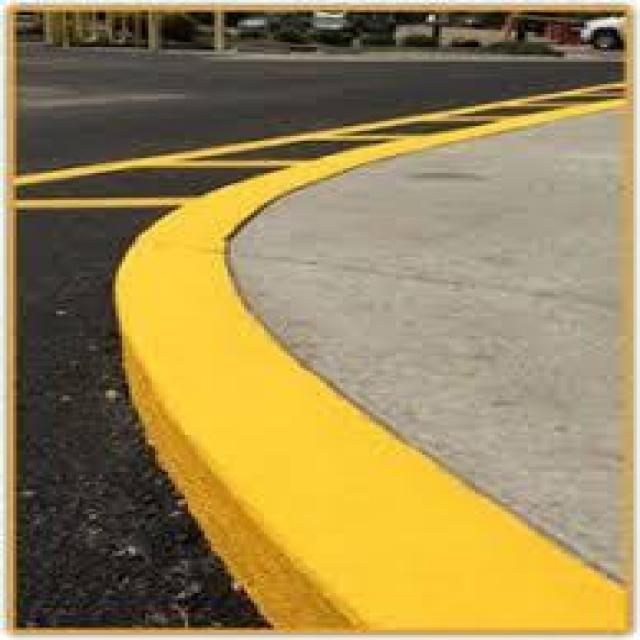bump: (95, 271, 569, 640)
